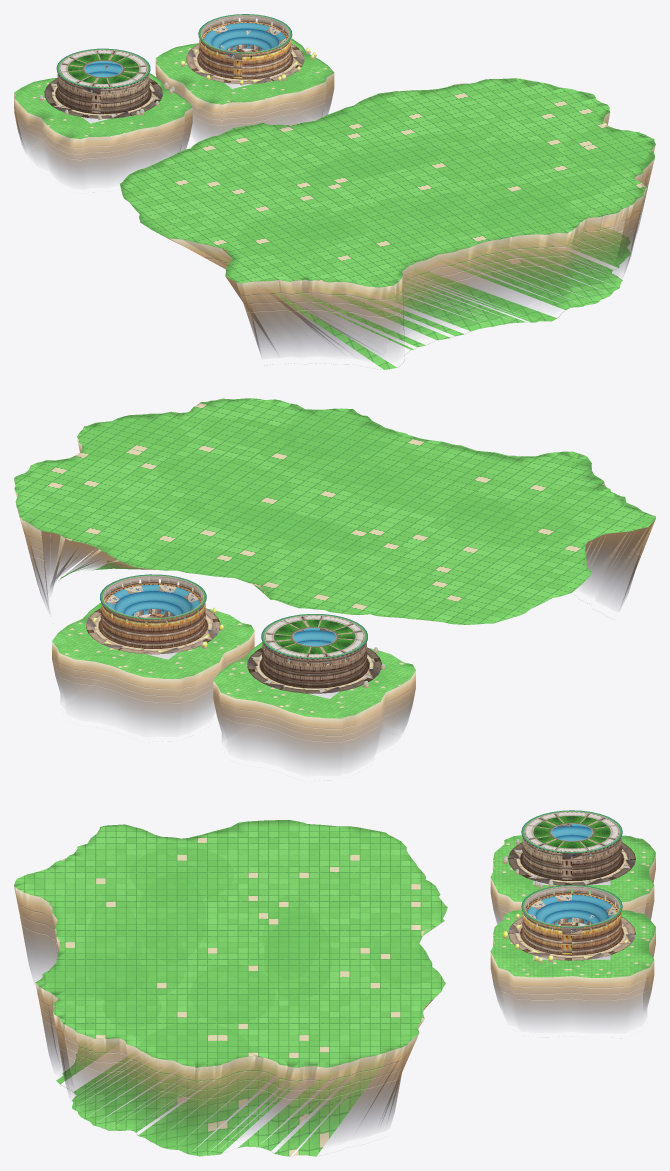
The model's file is digi_farm_3d.glb.
3 views of the same model, one above another, from view 1: azimuth 30°, elevation 25°; view 2: azimuth 150°, elevation 25°; view 3: azimuth 270°, elevation 25° (orthographic). The views are drawn at different scales.
Visible parts, largest first — view 1: Island, IlandColosseum.002, IlandColosseum.001, FarmColosseum_C, FarmColosseum_O.001; view 2: Island, IlandColosseum.002, IlandColosseum.001, FarmColosseum_O.001, FarmColosseum_C; view 3: Island, IlandColosseum.001, FarmColosseum_O.001, FarmColosseum_C, IlandColosseum.002.
Boxes of the visible parts, box(x1,y1,x2,y2) form: Island: box(120, 78, 655, 369); IlandColosseum.002: box(14, 73, 192, 181); IlandColosseum.001: box(155, 38, 334, 139); FarmColosseum_C: box(39, 48, 174, 119); FarmColosseum_O.001: box(181, 14, 316, 85); Island: box(14, 398, 655, 624); IlandColosseum.002: box(213, 642, 415, 766); IlandColosseum.001: box(52, 603, 254, 726); FarmColosseum_O.001: box(86, 574, 223, 654); FarmColosseum_C: box(247, 614, 385, 693); Island: box(14, 820, 447, 1156); IlandColosseum.001: box(490, 909, 655, 1023); FarmColosseum_O.001: box(502, 885, 635, 963); FarmColosseum_C: box(502, 810, 635, 888); IlandColosseum.002: box(490, 835, 655, 924).
Size of the model in its own units: 1.93 by 0.5038 by 2.11.
Materials: 5 (5 with a texture image).
